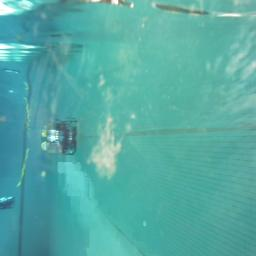front: (40, 134, 77, 156), (0, 196, 14, 209)
